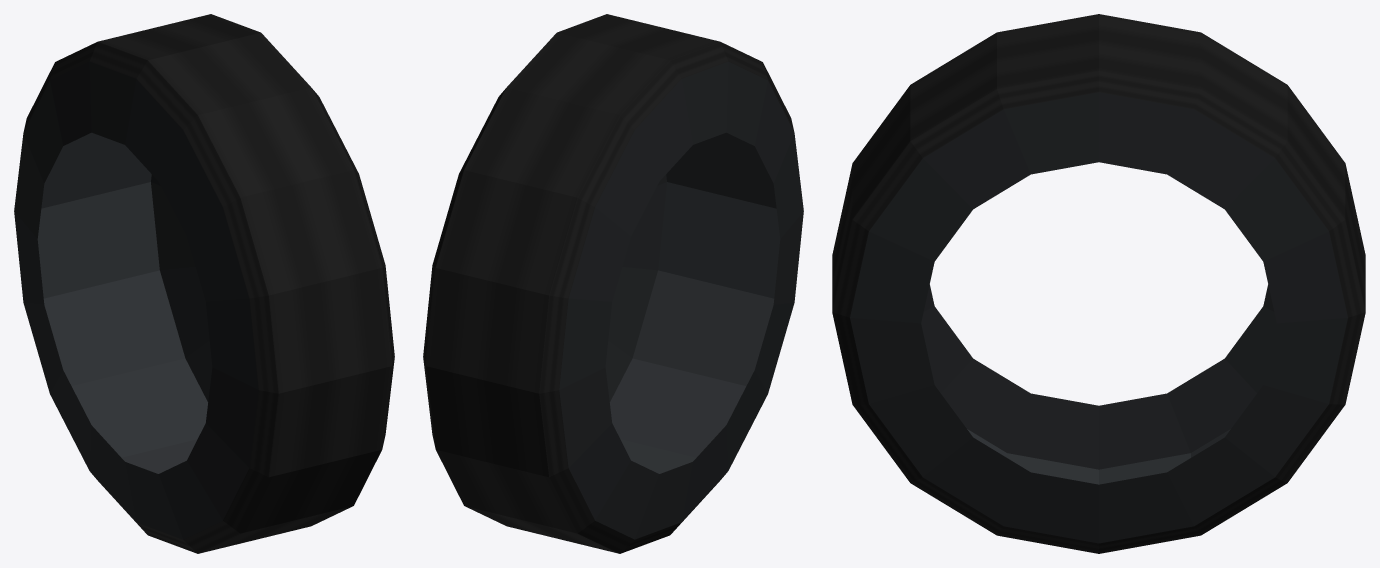
The model's file is tire_03_classic_radial.obj.
3 views of the same model, side by side, from view 1: azimuth 30°, elevation 25°; view 2: azimuth 150°, elevation 25°; view 3: azimuth 270°, elevation 25° (orthographic).
Parts seen in each view (by area): view 1: tire_03_classic_radial; view 2: tire_03_classic_radial; view 3: tire_03_classic_radial.
Boxes of the visible parts, <box> form: tire_03_classic_radial: <box>14,14,394,553</box>; tire_03_classic_radial: <box>423,14,803,553</box>; tire_03_classic_radial: <box>832,14,1365,553</box>.
Size of the model in its own units: 0.2625 by 0.75 by 0.75.
